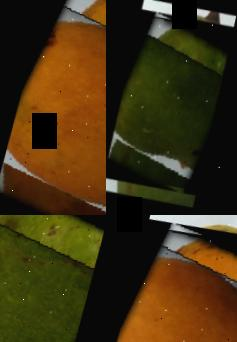Ripe: (0, 0, 106, 215), (106, 215, 237, 342)
Unripe: (106, 6, 234, 198), (0, 215, 106, 342)
